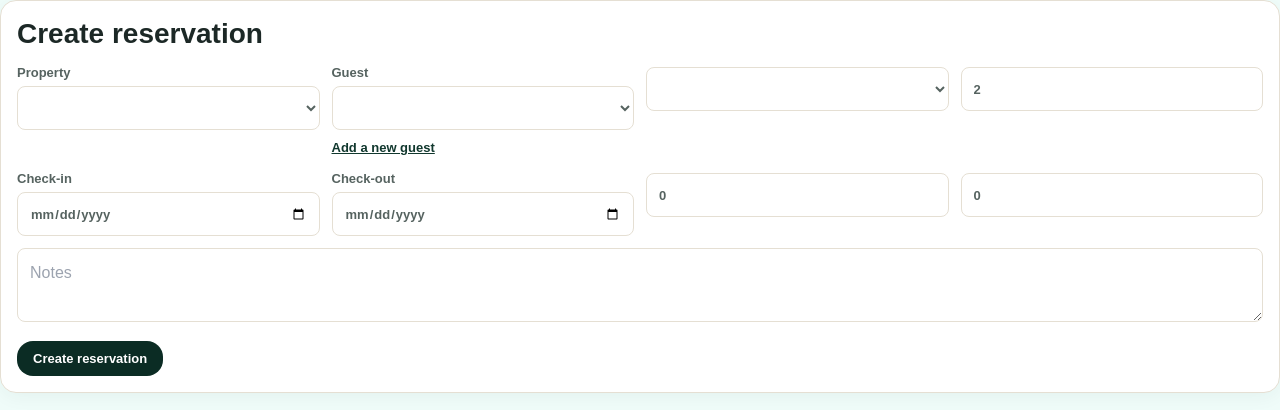
manual reservation submission › preserves the canonical refusal and entered values, without refresh
This screenshot has width=1280, height=410.
Select "Estate · Villa" in the dropdown labelled "Property" at (168, 108), box x1=17 y1=86 x2=320 y2=130
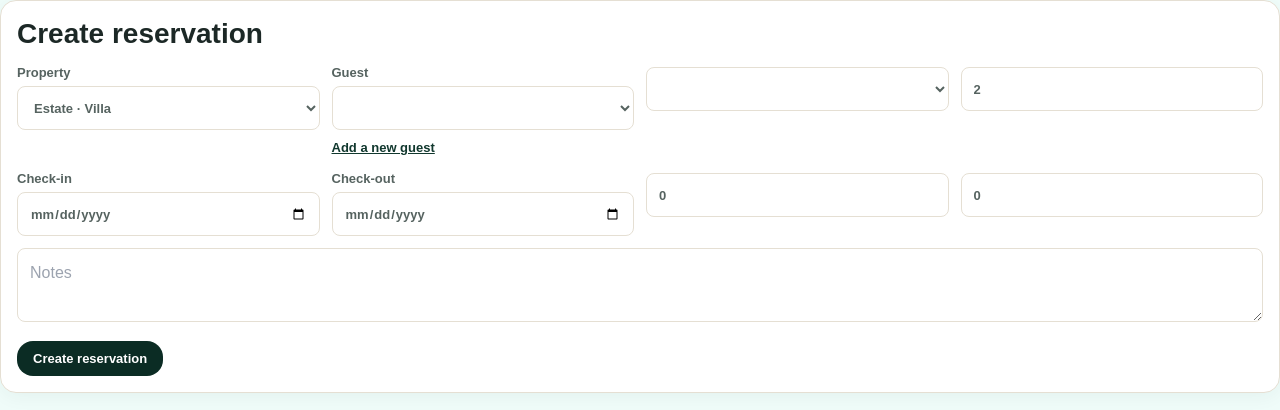
Select "Test Guest" in the dropdown labelled "Guest Add a new guest" at (483, 108), box x1=332 y1=86 x2=634 y2=130
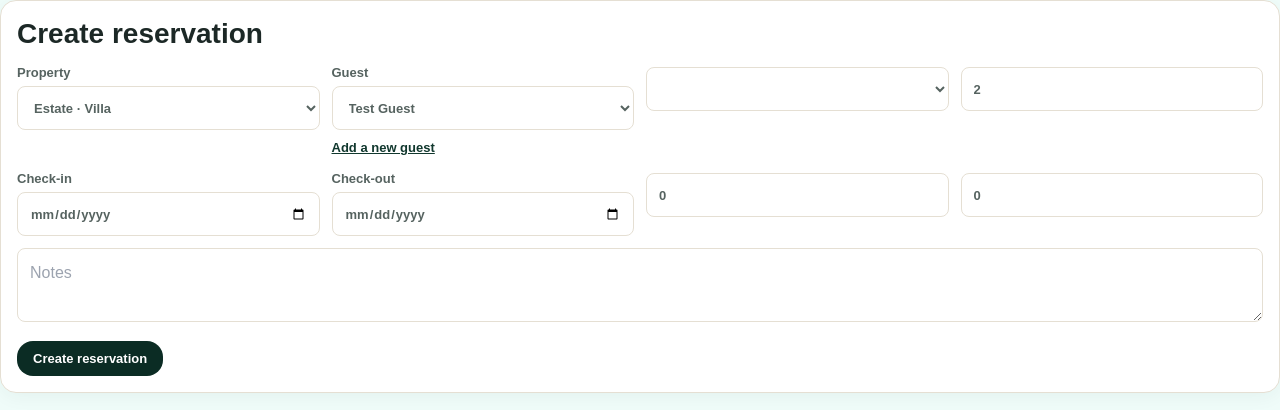
Type "2027-01-10" into the date field labelled "Check-in" at (168, 214), box x1=17 y1=192 x2=320 y2=236
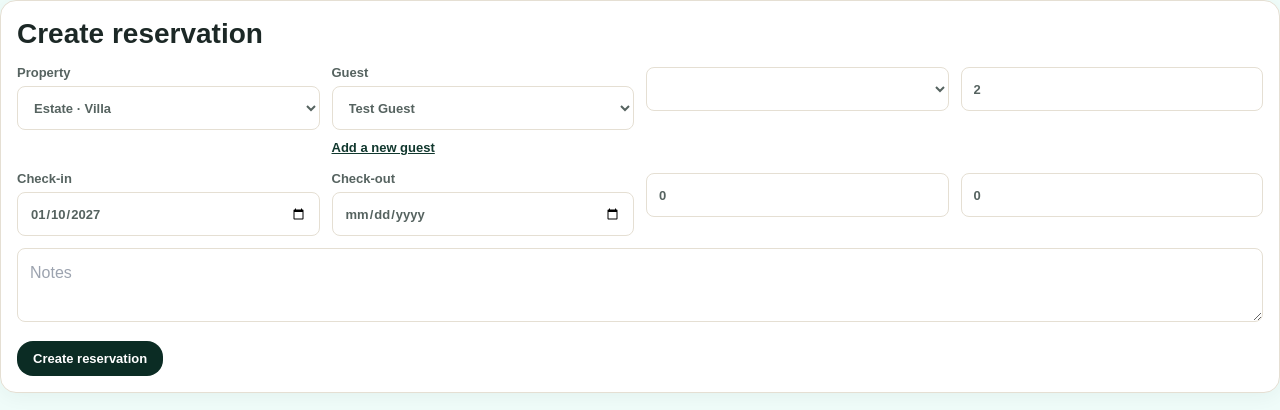
Type "2027-01-13" into the date field labelled "Check-out" at (483, 214), box x1=332 y1=192 x2=634 y2=236
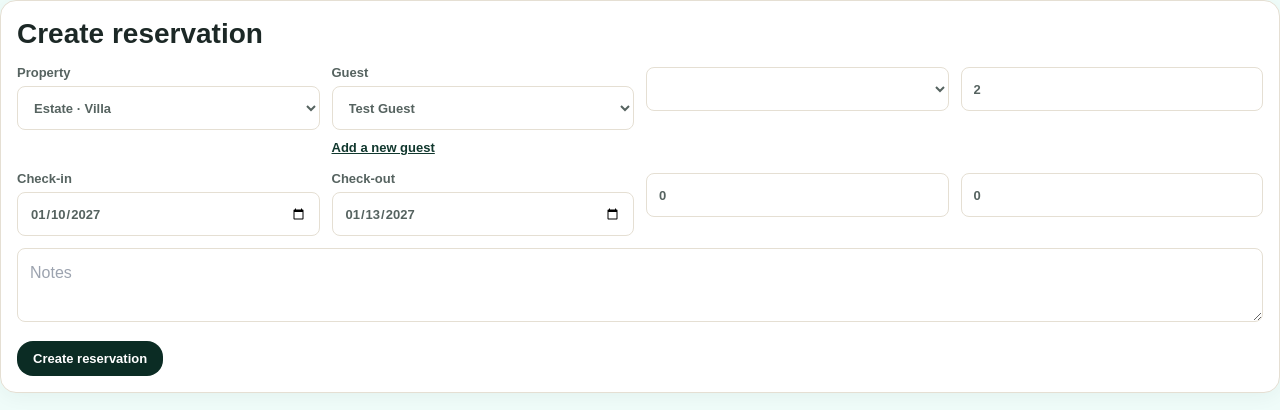
Type "Accepted dates" into the text box with placeholder "Notes" at (640, 285), box x1=17 y1=248 x2=1263 y2=322
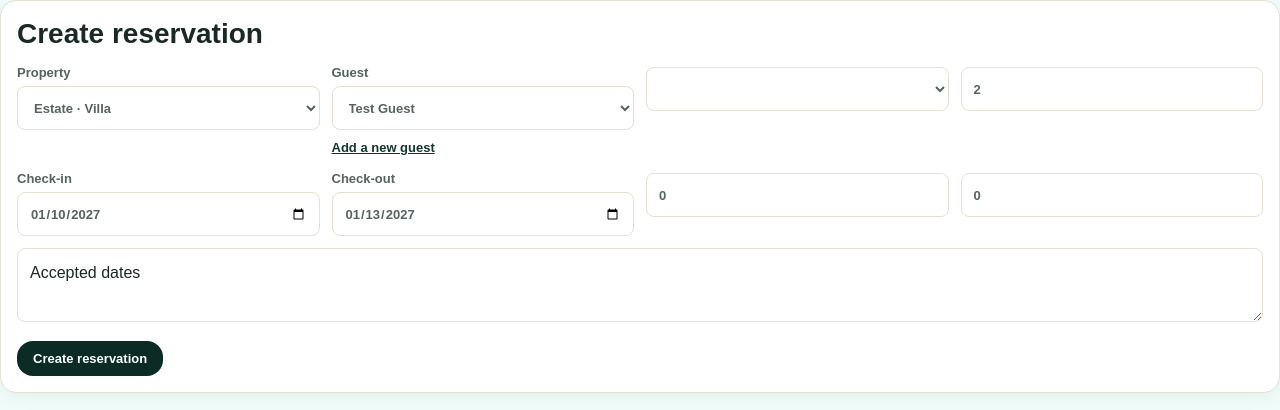
Submit the form
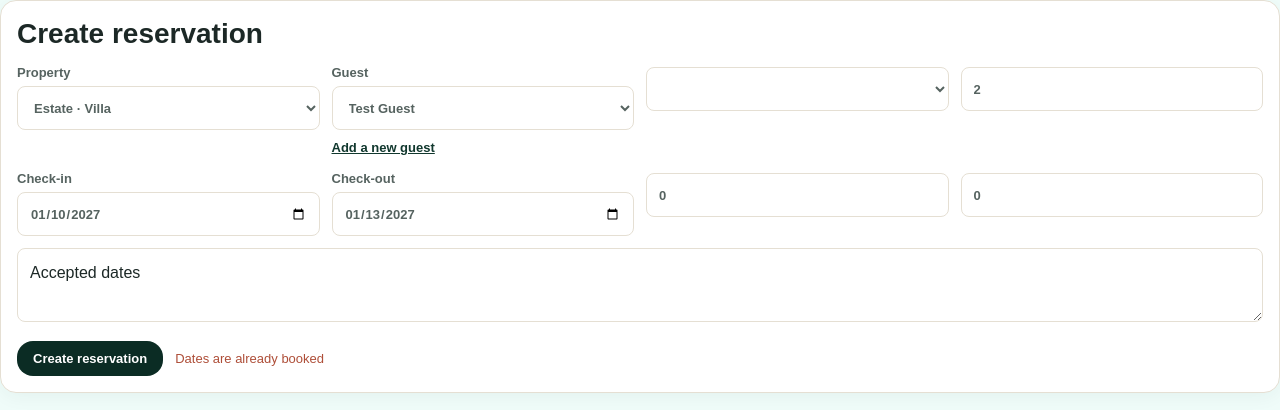
Check: the button "Create reservation" is enabled, box x1=17 y1=341 x2=163 y2=376
Check: the message reads "Dates are already booked", box x1=175 y1=351 x2=324 y2=366
